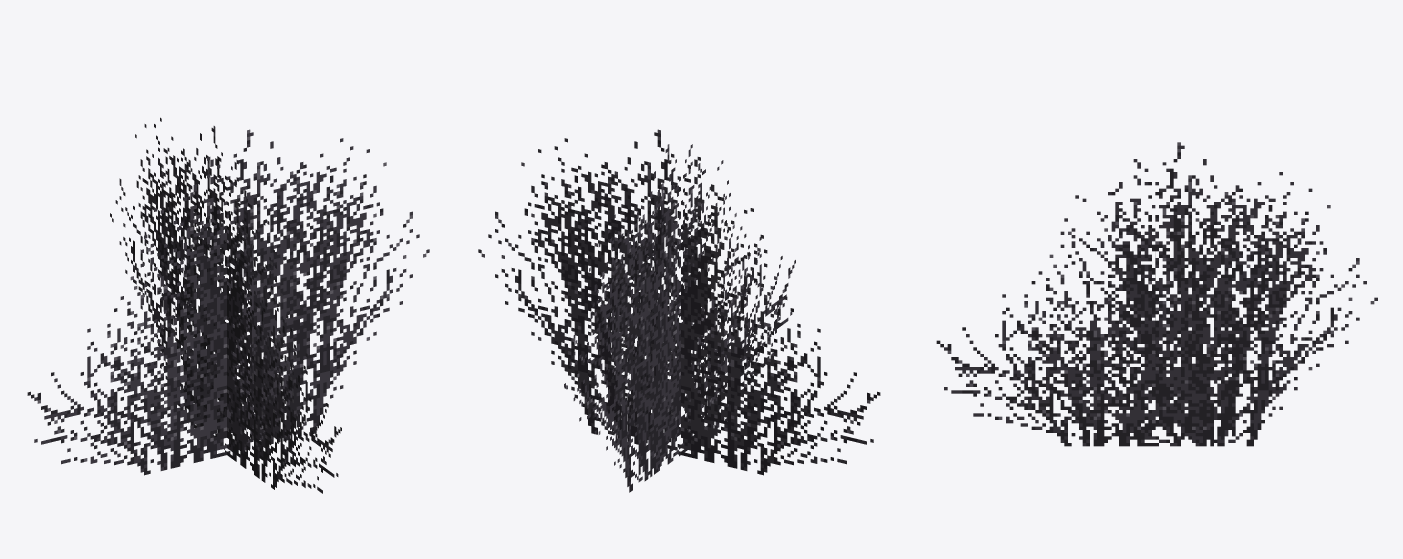
Rendered from foliage_0.glb.
The picture shows the model from 3 angles, left to right: view 1: azimuth 30°, elevation 25°; view 2: azimuth 150°, elevation 25°; view 3: azimuth 270°, elevation 25°; orthographic projection. The views are drawn at different scales.
Visible parts, largest first — view 1: bush_0; view 2: bush_0; view 3: bush_0.
Boxes of the visible parts, bbox=[...] form: bush_0: bbox=[27, 117, 429, 493]; bush_0: bbox=[478, 129, 880, 492]; bush_0: bbox=[936, 142, 1377, 446].
Size of the model in its own units: 1.9 by 1.5 by 1.9.
Materials: 1 (1 with a texture image).
